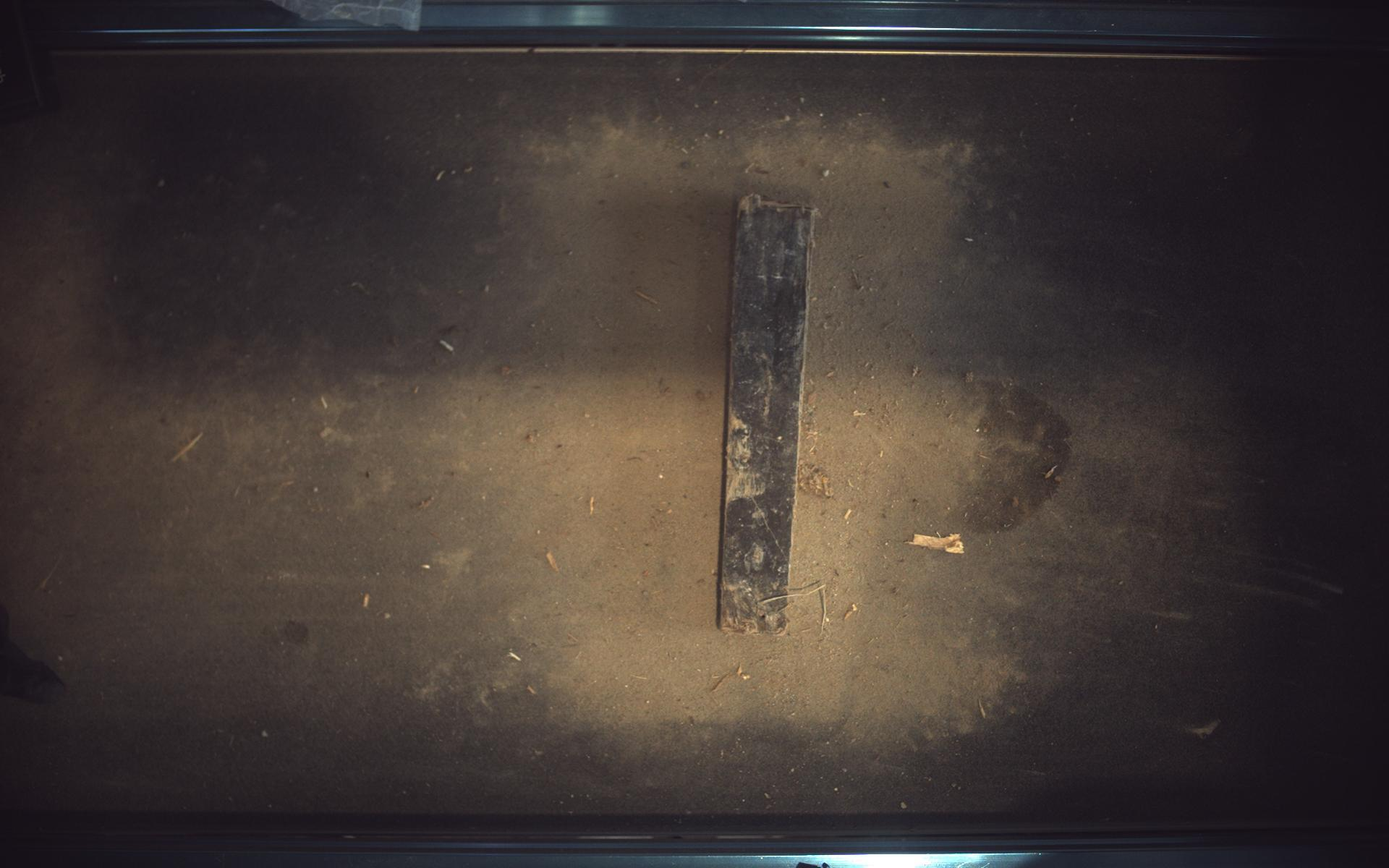wood: (720, 194, 815, 634)
